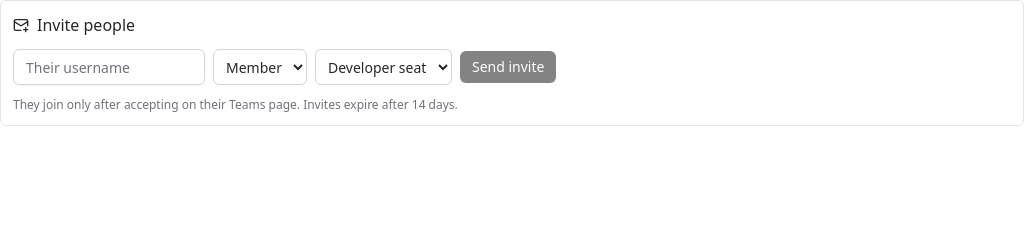
Test: OrganizationInvitesPanel › sends an invite with the chosen role and seat, then lists it
Check: the button "Send invite" is disabled, box [460,51,556,83]
Step 1. Submit the form named "Invite by username", box [13,49,556,85]
Step 2. Type "  bo " into the field labelled "username" → coordinates (109, 67), box [13,49,205,85]
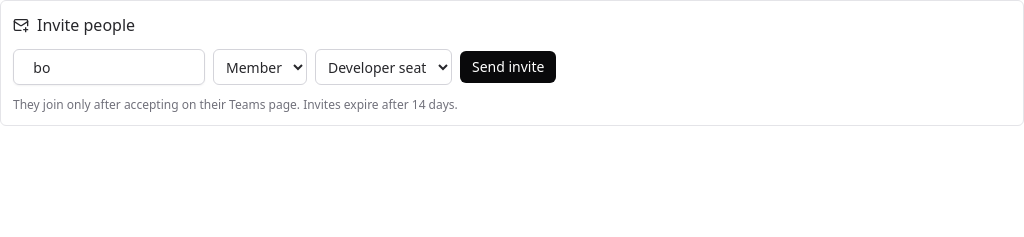
Step 3. Select "Admin" in the dropdown named "Organization role" → coordinates (260, 67), box [213,49,307,85]
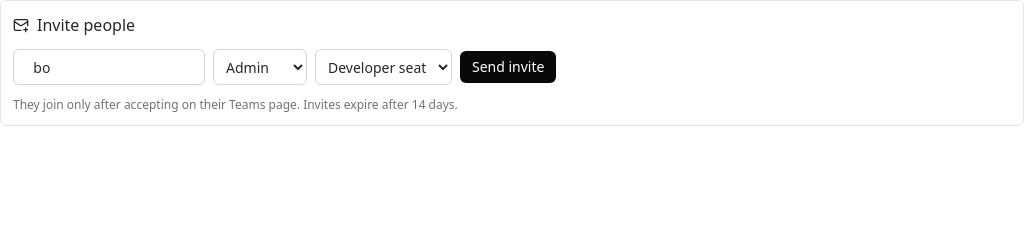
Step 4. Select "Viewer seat" in the dropdown named "Seat type" → coordinates (384, 67), box [315,49,452,85]
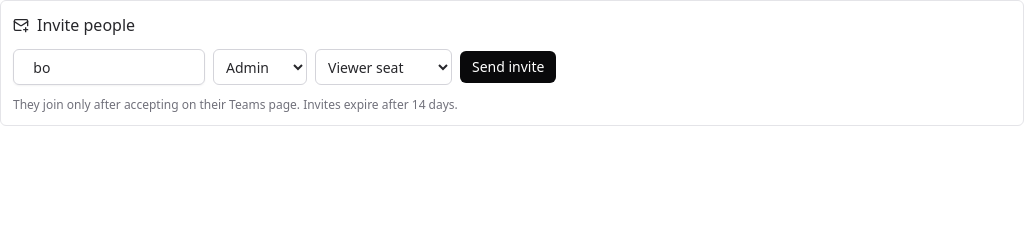
Step 5. Click the button "Send invite" → coordinates (508, 67), box [460,51,556,83]
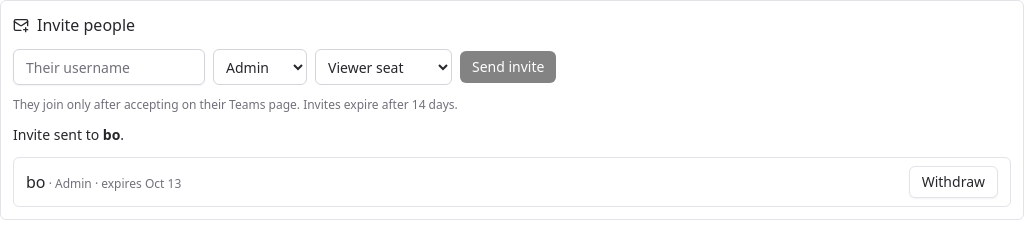
Check: the message reads "Invite sent to bo.", box [13,125,124,144]
Check: the list named "Pending invites" shows "bo · Admin · expires", box [13,157,1011,207]
